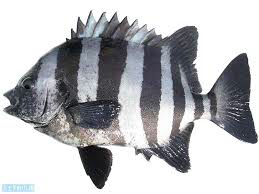azi: (8, 26, 240, 175)
